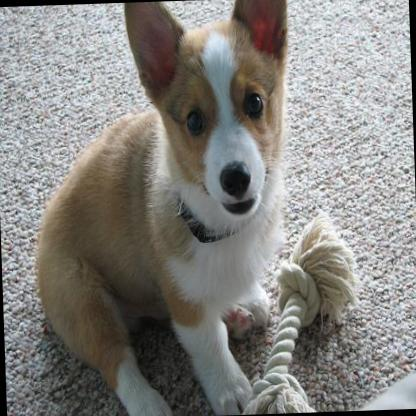Pembroke: (21, 0, 302, 411)
